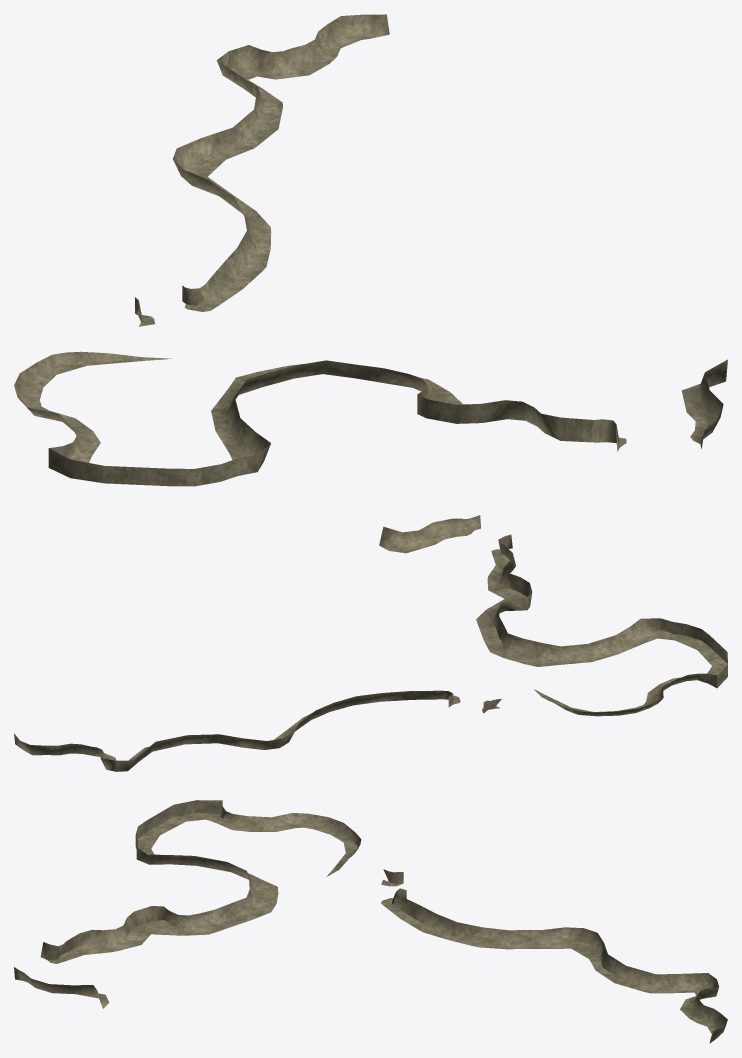
Rendered from EKH_GROTTO_PS_GR_OBJECT21.fbx.
3 views of the same model, one above another, from view 1: azimuth 30°, elevation 25°; view 2: azimuth 150°, elevation 25°; view 3: azimuth 270°, elevation 25° (orthographic). The views are drawn at different scales.
Parts seen in each view (by area): view 1: EKH_GROTTO_PS_GR_OBJECT21; view 2: EKH_GROTTO_PS_GR_OBJECT21; view 3: EKH_GROTTO_PS_GR_OBJECT21.
Part boxes in pixels (left/top/right/bottom): EKH_GROTTO_PS_GR_OBJECT21: left=14, top=14, right=727, bottom=486; EKH_GROTTO_PS_GR_OBJECT21: left=14, top=515, right=727, bottom=771; EKH_GROTTO_PS_GR_OBJECT21: left=14, top=800, right=727, bottom=1043.
Bounding box in the file's own units: 280515 × 12097 × 362221.
Materials: 1 (1 with a texture image).
